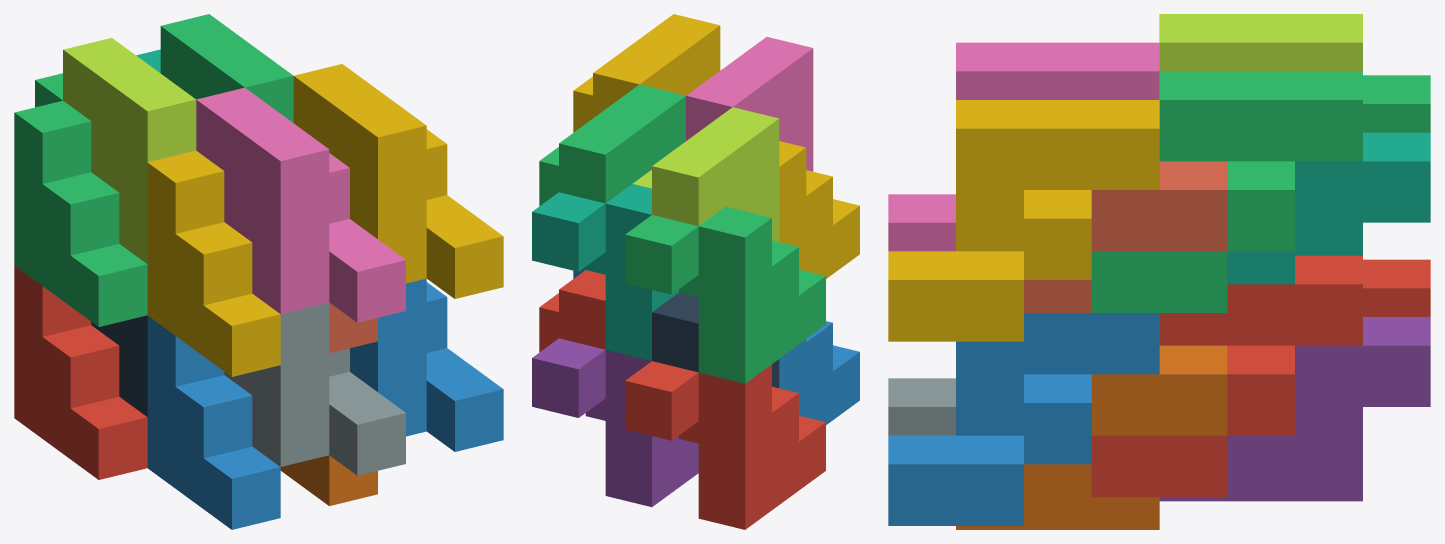
Rendered from tiling.obj.
3 views of the same model, side by side, from view 1: azimuth 30°, elevation 25°; view 2: azimuth 150°, elevation 25°; view 3: azimuth 270°, elevation 25° (orthographic). The views are drawn at different scales.
Visible parts, largest first — view 1: copy_2_domain_4, copy_2_domain_8, copy_1_domain_3, copy_1_domain_4, copy_1_domain_2, copy_1_domain_1, copy_2_domain_2, copy_2_domain_3, copy_2_domain_6, copy_2_domain_7, copy_1_domain_6, copy_2_domain_1 (+1 smaller); view 2: copy_1_domain_3, copy_1_domain_1, copy_1_domain_5, copy_2_domain_3, copy_1_domain_7, copy_2_domain_7, copy_2_domain_4, copy_2_domain_8, copy_1_domain_4, copy_1_domain_2, copy_2_domain_5, copy_2_domain_1; view 3: copy_2_domain_8, copy_2_domain_6, copy_2_domain_7, copy_2_domain_5, copy_1_domain_5, copy_1_domain_6, copy_2_domain_4, copy_1_domain_7, copy_1_domain_8, copy_2_domain_3, copy_1_domain_1, copy_1_domain_3 (+1 smaller).
Boxes of the visible parts, bbox=[...] form: copy_2_domain_4: bbox=[196, 87, 405, 322]; copy_2_domain_8: bbox=[293, 64, 503, 298]; copy_1_domain_3: bbox=[14, 73, 147, 326]; copy_1_domain_4: bbox=[147, 150, 280, 376]; copy_1_domain_2: bbox=[147, 316, 280, 529]; copy_1_domain_1: bbox=[14, 265, 147, 479]; copy_2_domain_2: bbox=[224, 302, 405, 475]; copy_2_domain_3: bbox=[63, 38, 196, 263]; copy_2_domain_6: bbox=[350, 278, 503, 451]; copy_2_domain_7: bbox=[160, 14, 293, 122]; copy_1_domain_6: bbox=[280, 455, 377, 505]; copy_2_domain_1: bbox=[91, 315, 147, 416]; copy_1_domain_3: bbox=[625, 206, 825, 383]; copy_1_domain_1: bbox=[625, 361, 825, 529]; copy_1_domain_5: bbox=[532, 338, 698, 506]; copy_2_domain_3: bbox=[632, 107, 779, 241]; copy_1_domain_7: bbox=[532, 184, 678, 360]; copy_2_domain_7: bbox=[539, 84, 685, 205]; copy_2_domain_4: bbox=[686, 37, 813, 171]; copy_2_domain_8: bbox=[573, 14, 720, 132]; copy_1_domain_4: bbox=[779, 141, 859, 278]; copy_1_domain_2: bbox=[779, 321, 859, 424]; copy_2_domain_5: bbox=[539, 270, 605, 352]; copy_2_domain_1: bbox=[652, 292, 779, 388]; copy_2_domain_8: bbox=[888, 100, 1159, 341]; copy_2_domain_6: bbox=[888, 313, 1159, 525]; copy_2_domain_7: bbox=[1091, 71, 1362, 312]; copy_2_domain_5: bbox=[1091, 255, 1362, 497]; copy_1_domain_5: bbox=[1159, 317, 1430, 501]; copy_1_domain_6: bbox=[956, 345, 1227, 529]; copy_2_domain_4: bbox=[888, 42, 1159, 251]; copy_1_domain_7: bbox=[1227, 132, 1430, 284]; copy_1_domain_8: bbox=[1024, 161, 1227, 312]; copy_2_domain_3: bbox=[1159, 14, 1362, 71]; copy_1_domain_1: bbox=[1363, 259, 1430, 316]; copy_1_domain_3: bbox=[1363, 75, 1430, 132].
Size of the model in its own units: 6 by 7 by 8.
